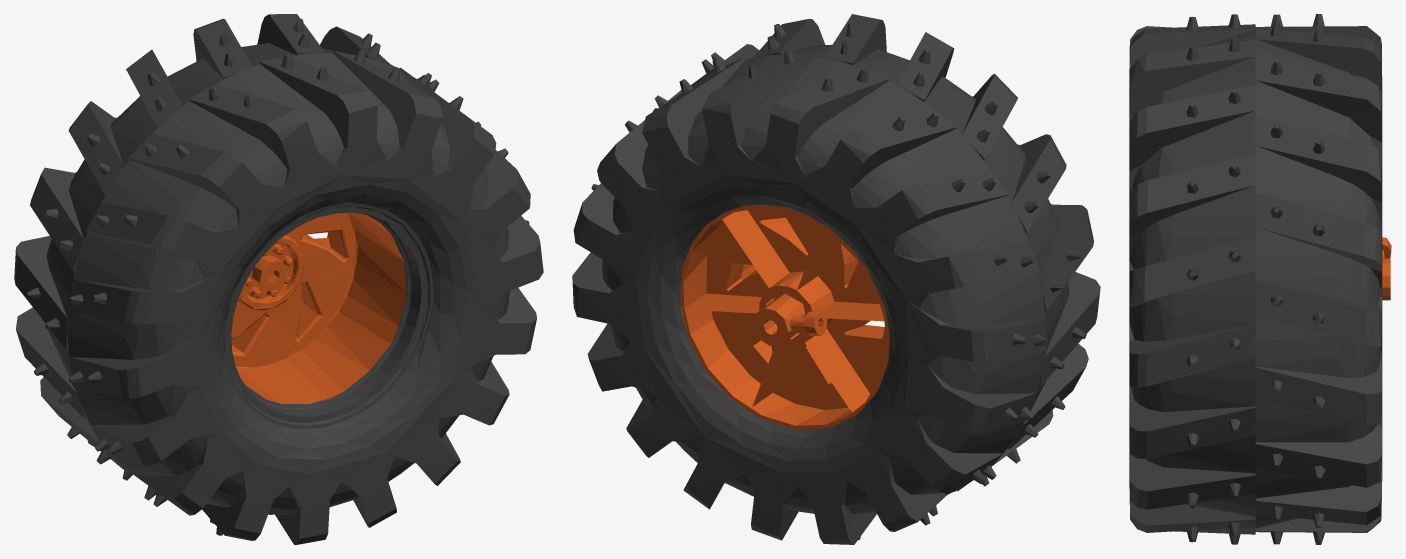
The model's file is wheel_right.dae.
3 renders of one model, left to right at view 1: azimuth 30°, elevation 25°; view 2: azimuth 150°, elevation 25°; view 3: azimuth 270°, elevation 25°, orthographic. The views are drawn at different scales.
Visible parts, largest first — view 1: wheel_right; view 2: wheel_right; view 3: wheel_right.
Boxes of the visible parts, box(x1,y1,x2,y2) form: wheel_right: box(14, 14, 543, 544); wheel_right: box(572, 14, 1100, 544); wheel_right: box(1129, 14, 1391, 544).
Bounding box in the file's own units: 0.1266 × 0.0624 × 0.1266.
